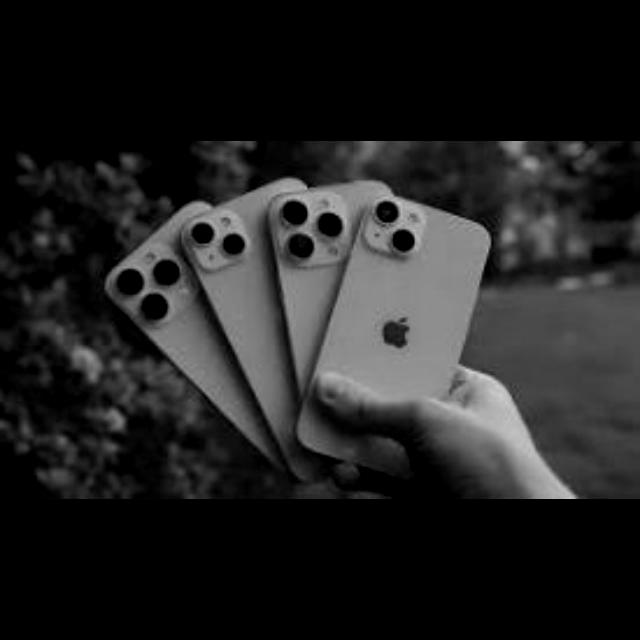fake: (84, 161, 554, 494)
